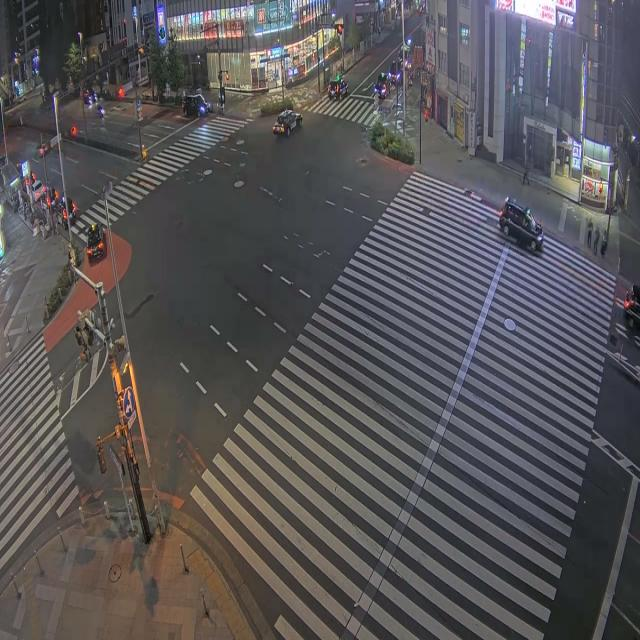car: (499, 198, 543, 251), (273, 110, 302, 135), (86, 224, 105, 262), (624, 285, 639, 327), (56, 197, 77, 226), (182, 95, 211, 116), (374, 73, 390, 99), (328, 80, 348, 99), (32, 180, 46, 202), (388, 61, 401, 83), (55, 204, 67, 227), (83, 90, 96, 106), (39, 143, 50, 156)
motorcycle: (98, 105, 104, 118)
